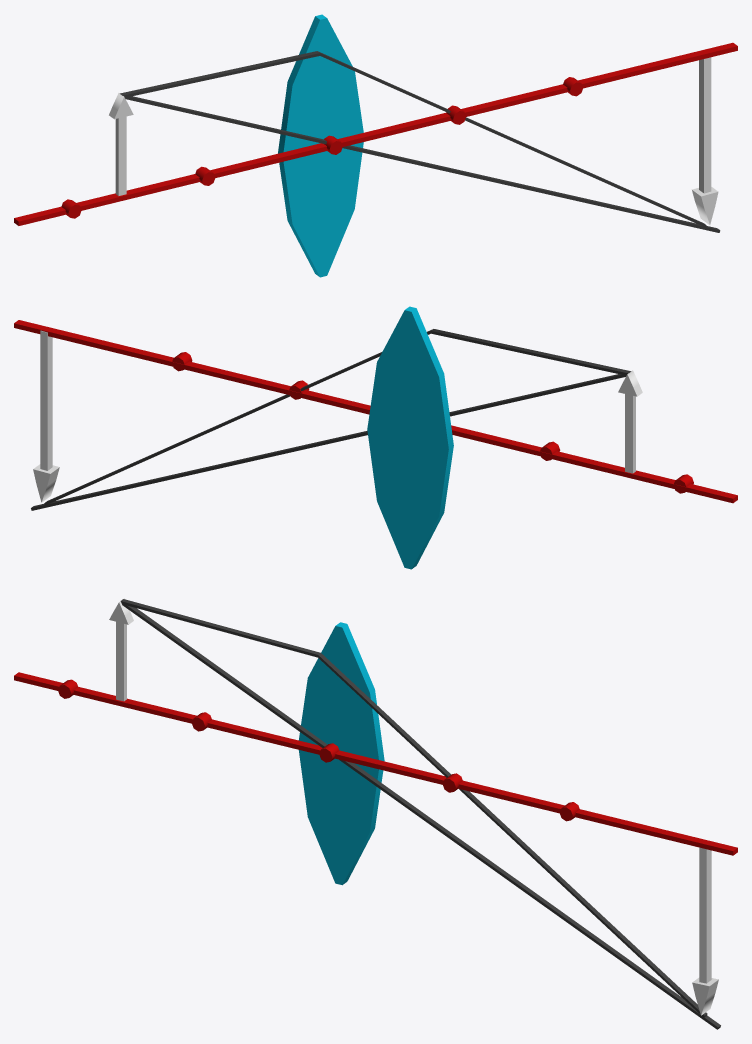
The model's file is last4.fbx.
The picture shows the model from 3 angles, top to bottom: view 1: azimuth 30°, elevation 25°; view 2: azimuth 150°, elevation 25°; view 3: azimuth 330°, elevation 25°; orthographic projection.
Visible parts, largest first — view 1: last4; view 2: last4; view 3: last4.
Boxes of the visible parts, bbox=[...] form: last4: bbox=[14, 14, 737, 277]; last4: bbox=[14, 306, 737, 569]; last4: bbox=[14, 598, 737, 1029].
Size of the model in its own units: 31.68 by 12.73 by 1.36.
